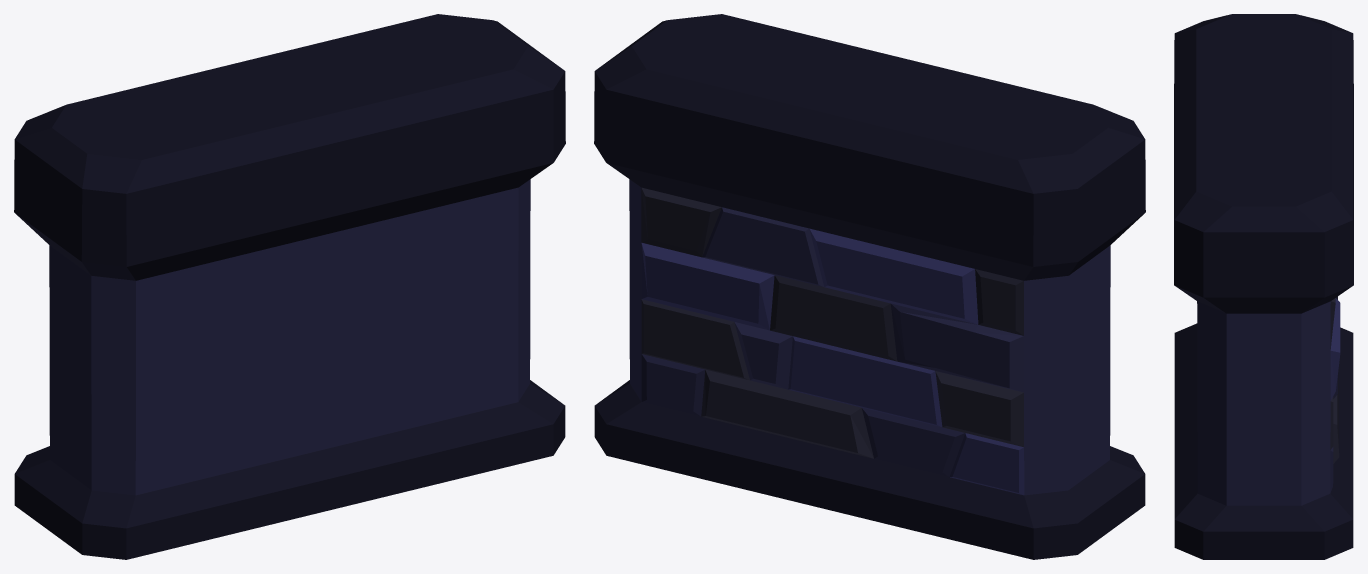
The model's file is Wall2.fbx.
3 views of the same model, side by side, from view 1: azimuth 30°, elevation 25°; view 2: azimuth 150°, elevation 25°; view 3: azimuth 270°, elevation 25° (orthographic). The views are drawn at different scales.
Parts seen in each view (by area): view 1: Object006; view 2: Object006; view 3: Object006.
Boxes of the visible parts, x1,y1,x2,y2 form: Object006: (14, 14, 565, 559); Object006: (594, 14, 1145, 559); Object006: (1174, 14, 1353, 559).
Size of the model in its own units: 48.03 by 17.27 by 36.44.
